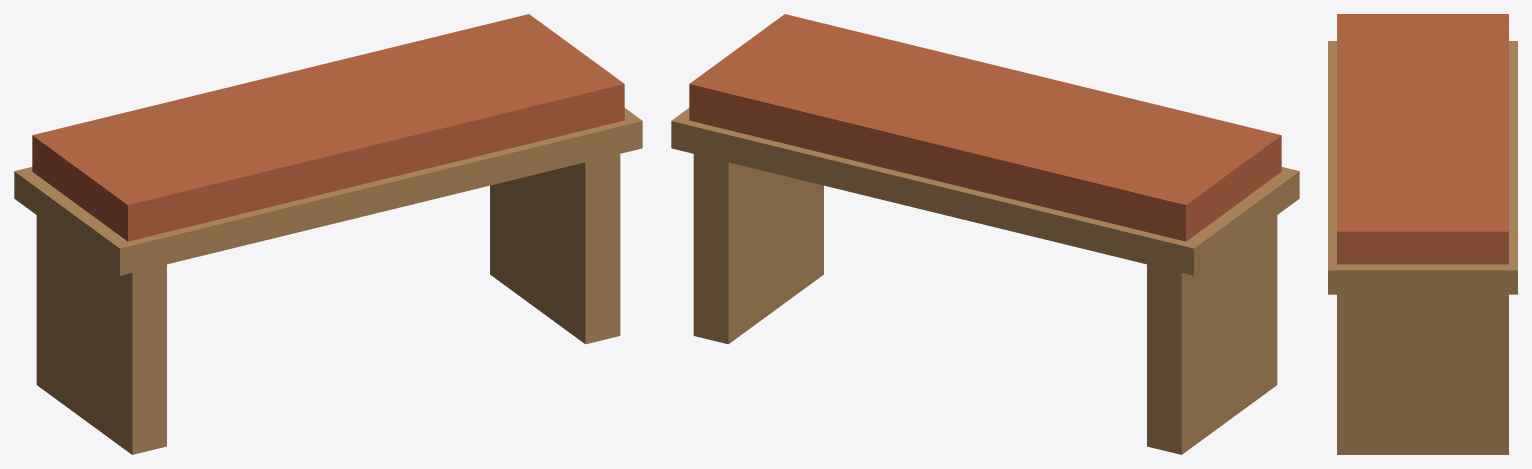
3 views of the same model, side by side, from view 1: azimuth 30°, elevation 25°; view 2: azimuth 150°, elevation 25°; view 3: azimuth 270°, elevation 25° (orthographic). The views are drawn at different scales.
Visible parts, largest first — view 1: banca_porche; view 2: banca_porche; view 3: banca_porche.
Boxes of the visible parts, <box> form: banca_porche: <box>14,14,642,454</box>; banca_porche: <box>671,14,1299,454</box>; banca_porche: <box>1328,14,1517,454</box>.
Size of the model in its own units: 1.2 by 0.42 by 0.55.
